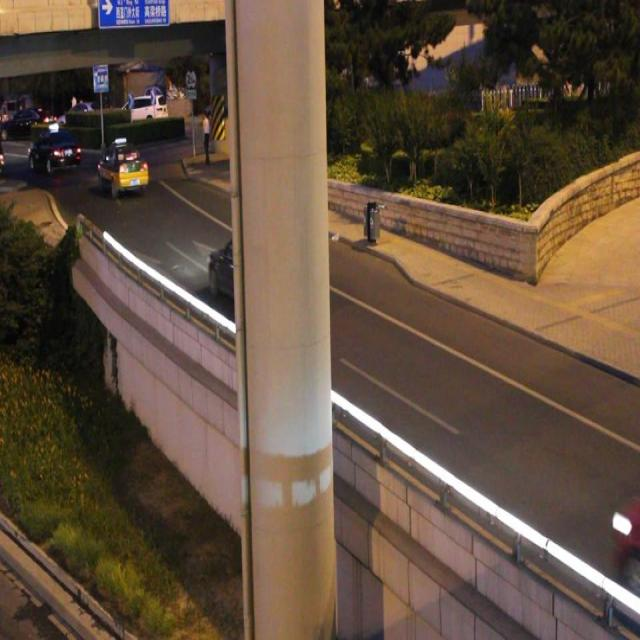car: (208, 233, 280, 306), (100, 147, 148, 190), (29, 132, 80, 171)
